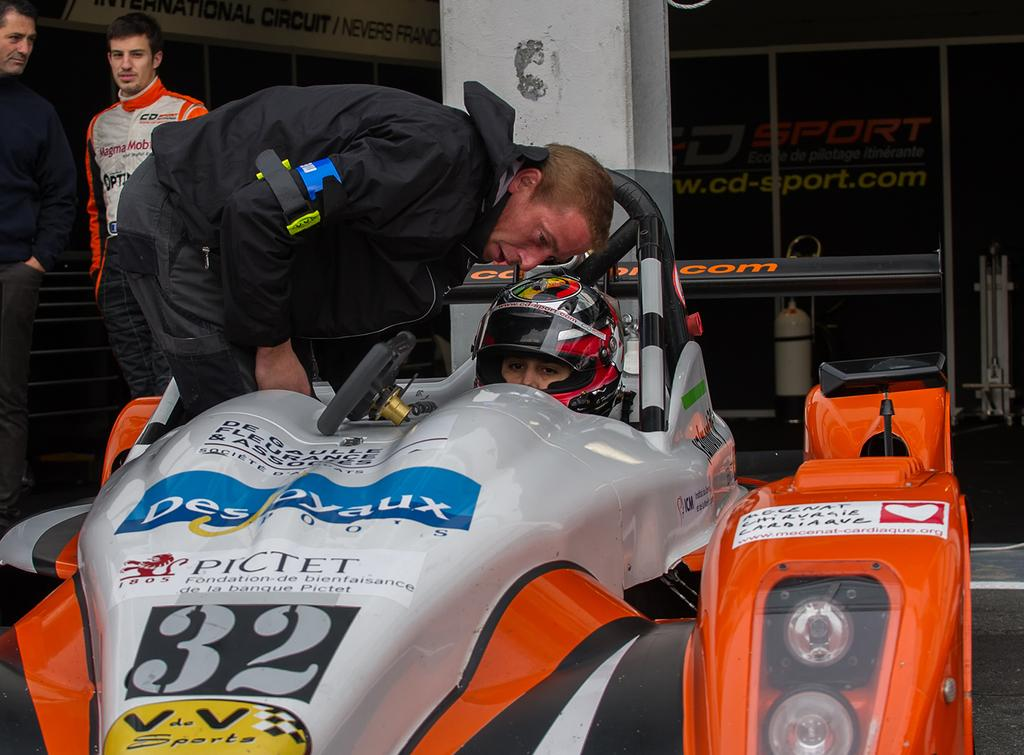helmet: (471, 275, 625, 433)
nohelmet: (473, 140, 617, 273), (105, 11, 164, 96), (0, 0, 41, 78)
